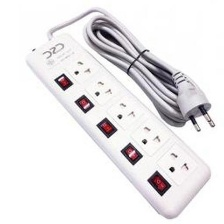three_eye_plug: (24, 27, 212, 219)
